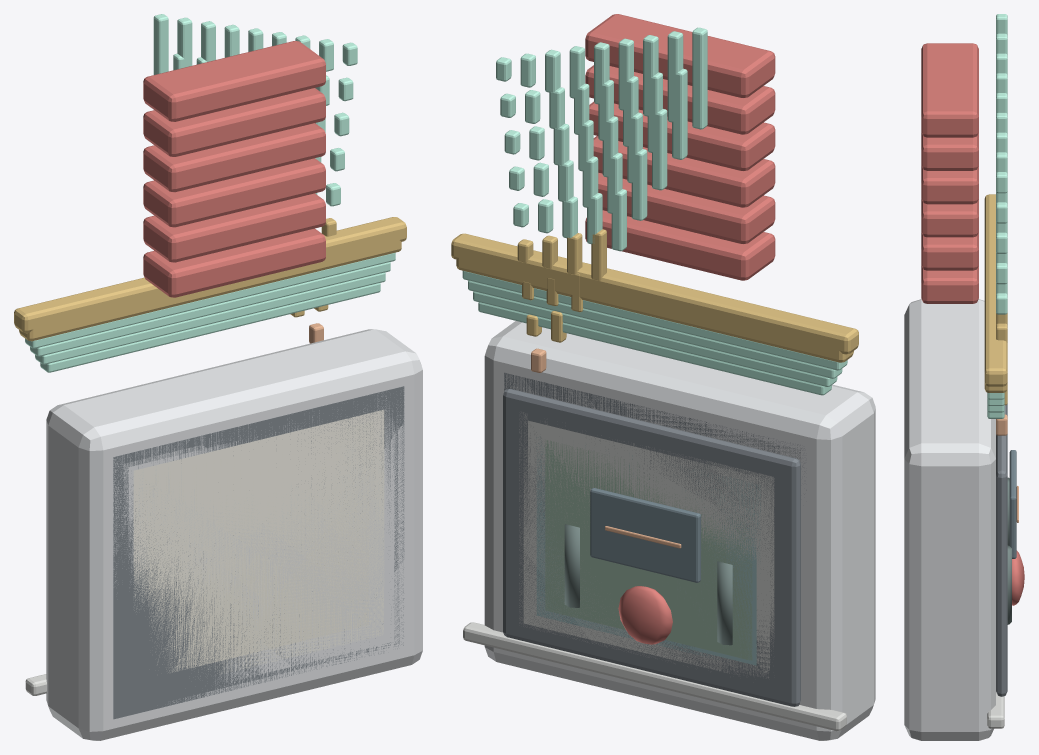
The model's file is Gear10.fbx.
3 renders of one model, left to right at view 1: azimuth 30°, elevation 25°; view 2: azimuth 150°, elevation 25°; view 3: azimuth 270°, elevation 25°, orthographic. The views are drawn at different scales.
Visible parts, largest first — view 1: Gear10_V10_Platinum, Gear10_V4_Linen, Gear10_V1_Ivory, Gear10_V7_Graphite, Gear10_V6_Platinum, Gear10_V8_Graphite, Gear10_V10_Crimson, Gear10_V10_Glow, Gear10_V5_Platinum, Gear10_V5_Crimson, Gear10_V6_Crimson, Gear10_V7_Crimson (+9 smaller); view 2: Gear10_V10_Platinum, Gear10_V10_Graphite, Gear10_V1_Sage, Gear10_V5_Chrome, Gear10_V9_Graphite, Gear10_V10_Glow, Gear10_V10_Gold, Gear10_V9_Glow, Gear10_V8_Glow, Gear10_V10_Crimson, Gear10_V1_Glass, Gear10_V7_Glow (+22 smaller); view 3: Gear10_V10_Platinum, Gear10_V10_Crimson, Gear10_V10_Graphite, Gear10_V10_Gold, Gear10_V10_Glow, Gear10_V7_Crimson, Gear10_V9_Crimson, Gear10_V5_Crimson, Gear10_V6_Crimson, Gear10_V8_Crimson, Gear10_V1_Glass, Gear10_V1_Ink (+7 smaller).
Part boxes in pixels (x1,y1,x2,y2): Gear10_V10_Platinum: (46,329,422,740); Gear10_V4_Linen: (133,409,384,674); Gear10_V1_Ivory: (148,472,368,672); Gear10_V7_Graphite: (118,420,399,713); Gear10_V6_Platinum: (123,420,394,681); Gear10_V8_Graphite: (113,386,404,719); Gear10_V10_Crimson: (143,41,325,121); Gear10_V10_Glow: (25,14,395,348); Gear10_V5_Platinum: (128,436,389,677); Gear10_V5_Crimson: (143,228,325,297); Gear10_V6_Crimson: (143,193,325,262); Gear10_V7_Crimson: (143,158,325,227); Gear10_V10_Platinum: (484,321,875,740); Gear10_V10_Graphite: (503,389,800,706); Gear10_V1_Sage: (545,440,752,660); Gear10_V5_Chrome: (491,420,807,714); Gear10_V9_Graphite: (510,401,787,664); Gear10_V10_Glow: (462,27,847,370); Gear10_V10_Gold: (451,233,858,354); Gear10_V9_Glow: (468,68,842,378); Gear10_V8_Glow: (473,109,837,386); Gear10_V10_Crimson: (585,14,775,644); Gear10_V1_Glass: (590,488,700,582); Gear10_V7_Glow: (478,149,831,395); Gear10_V10_Platinum: (904,299,995,740); Gear10_V10_Crimson: (921,43,1024,605); Gear10_V10_Graphite: (996,404,1007,696); Gear10_V10_Gold: (984,194,1007,386); Gear10_V10_Glow: (987,14,1007,399); Gear10_V7_Crimson: (921,199,978,237); Gear10_V9_Crimson: (921,132,978,170); Gear10_V5_Crimson: (921,265,978,303); Gear10_V6_Crimson: (921,232,978,270); Gear10_V8_Crimson: (921,166,978,204); Gear10_V1_Glass: (1009,450,1016,558); Gear10_V1_Ink: (1007,477,1011,624).
Bounding box in the file's own units: 73.28 × 121 × 21.
